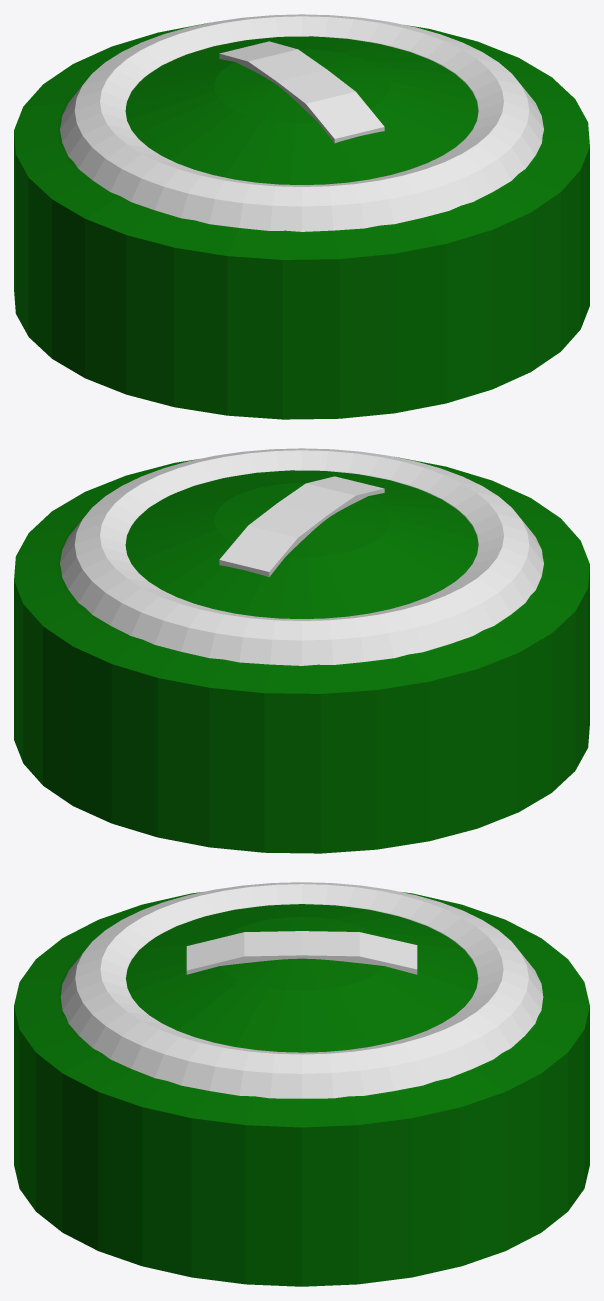
The model's file is OnButton.fbx.
The picture shows the model from 3 angles, top to bottom: view 1: azimuth 30°, elevation 25°; view 2: azimuth 150°, elevation 25°; view 3: azimuth 270°, elevation 25°; orthographic projection.
Visible parts, largest first — view 1: Button, White ring, Cube; view 2: Button, White ring, Cube; view 3: Button, White ring, Cube.
Part boxes in pixels (box(x1,y1,x2,y2)): Button: box(14, 22, 589, 419); White ring: box(60, 14, 543, 231); Cube: box(219, 41, 384, 142); Button: box(14, 456, 589, 853); White ring: box(60, 448, 543, 665); Cube: box(219, 476, 384, 576); Button: box(14, 892, 589, 1286); White ring: box(60, 882, 543, 1098); Cube: box(186, 931, 417, 974).
Bounding box in the file's own units: 200 × 85 × 200.
